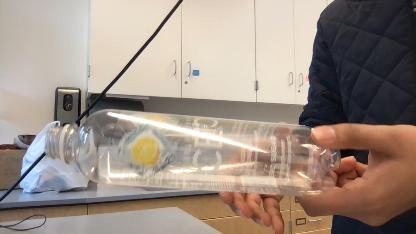Plastic Bottle: (44, 103, 346, 199)
